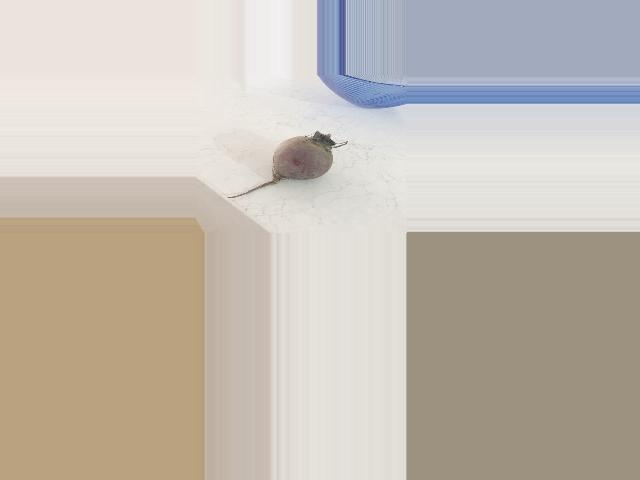beet: (227, 131, 346, 199)
